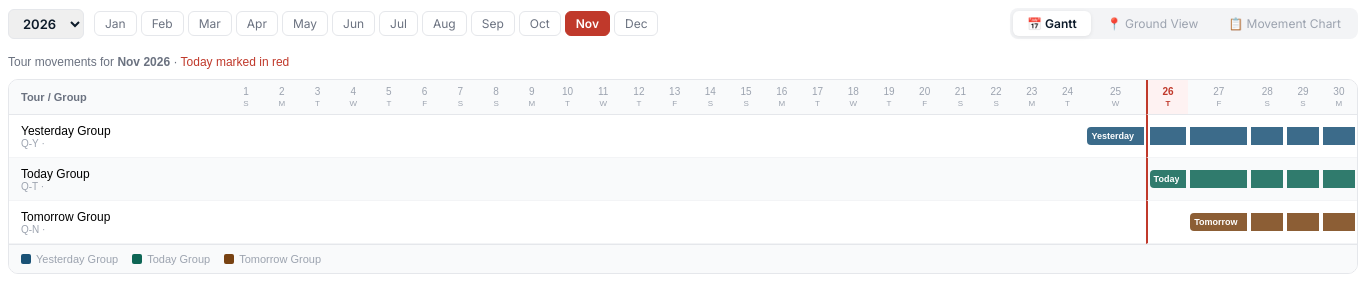
Test case: GanttView UI: Ground View Yesterday / Today / Tomorrow buttons › Tomorrow shows only the tour running tomorrow
The image size is (1366, 291).
Click the button "📍 Ground View": (1152, 24) [1093, 11, 1212, 36]
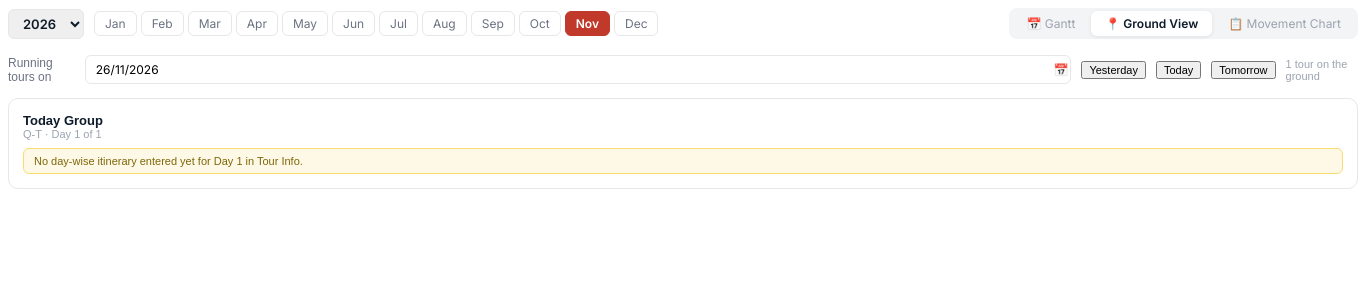
Click the button "Tomorrow": (1243, 70) [1211, 60, 1276, 78]
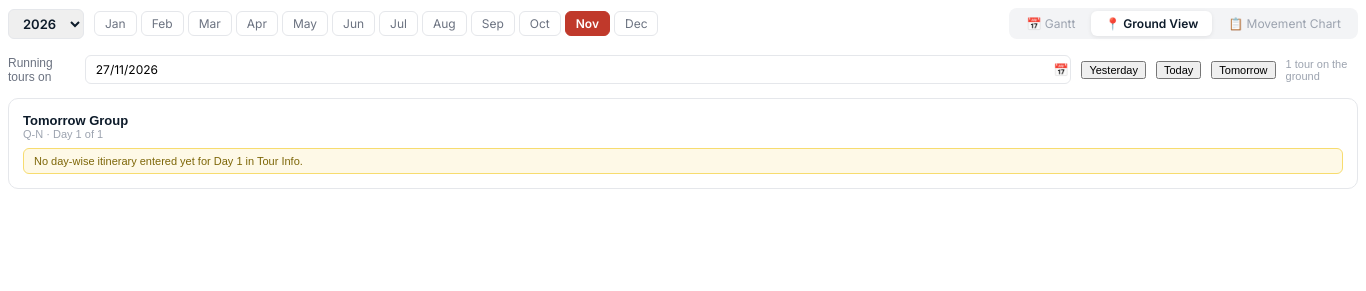
Expected: the text "Tomorrow Group" is shown, [23, 113, 128, 128]
Expected: the text "Today Group" is gone
